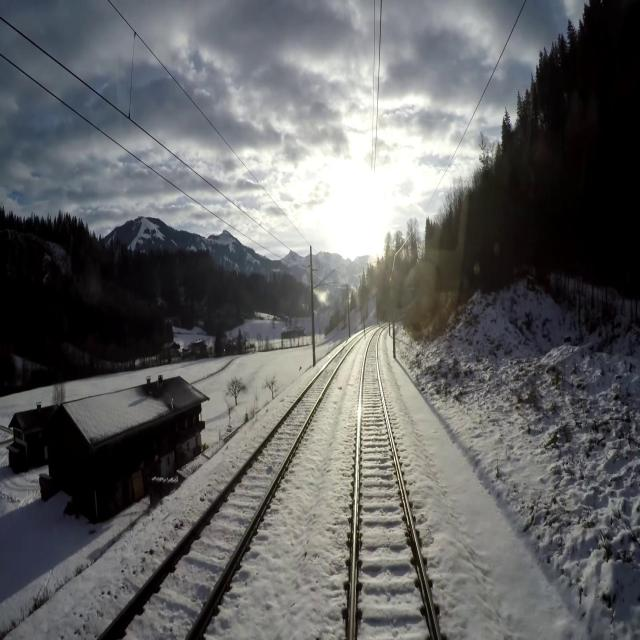rail-track: (104, 341, 353, 639), (354, 331, 437, 639)
